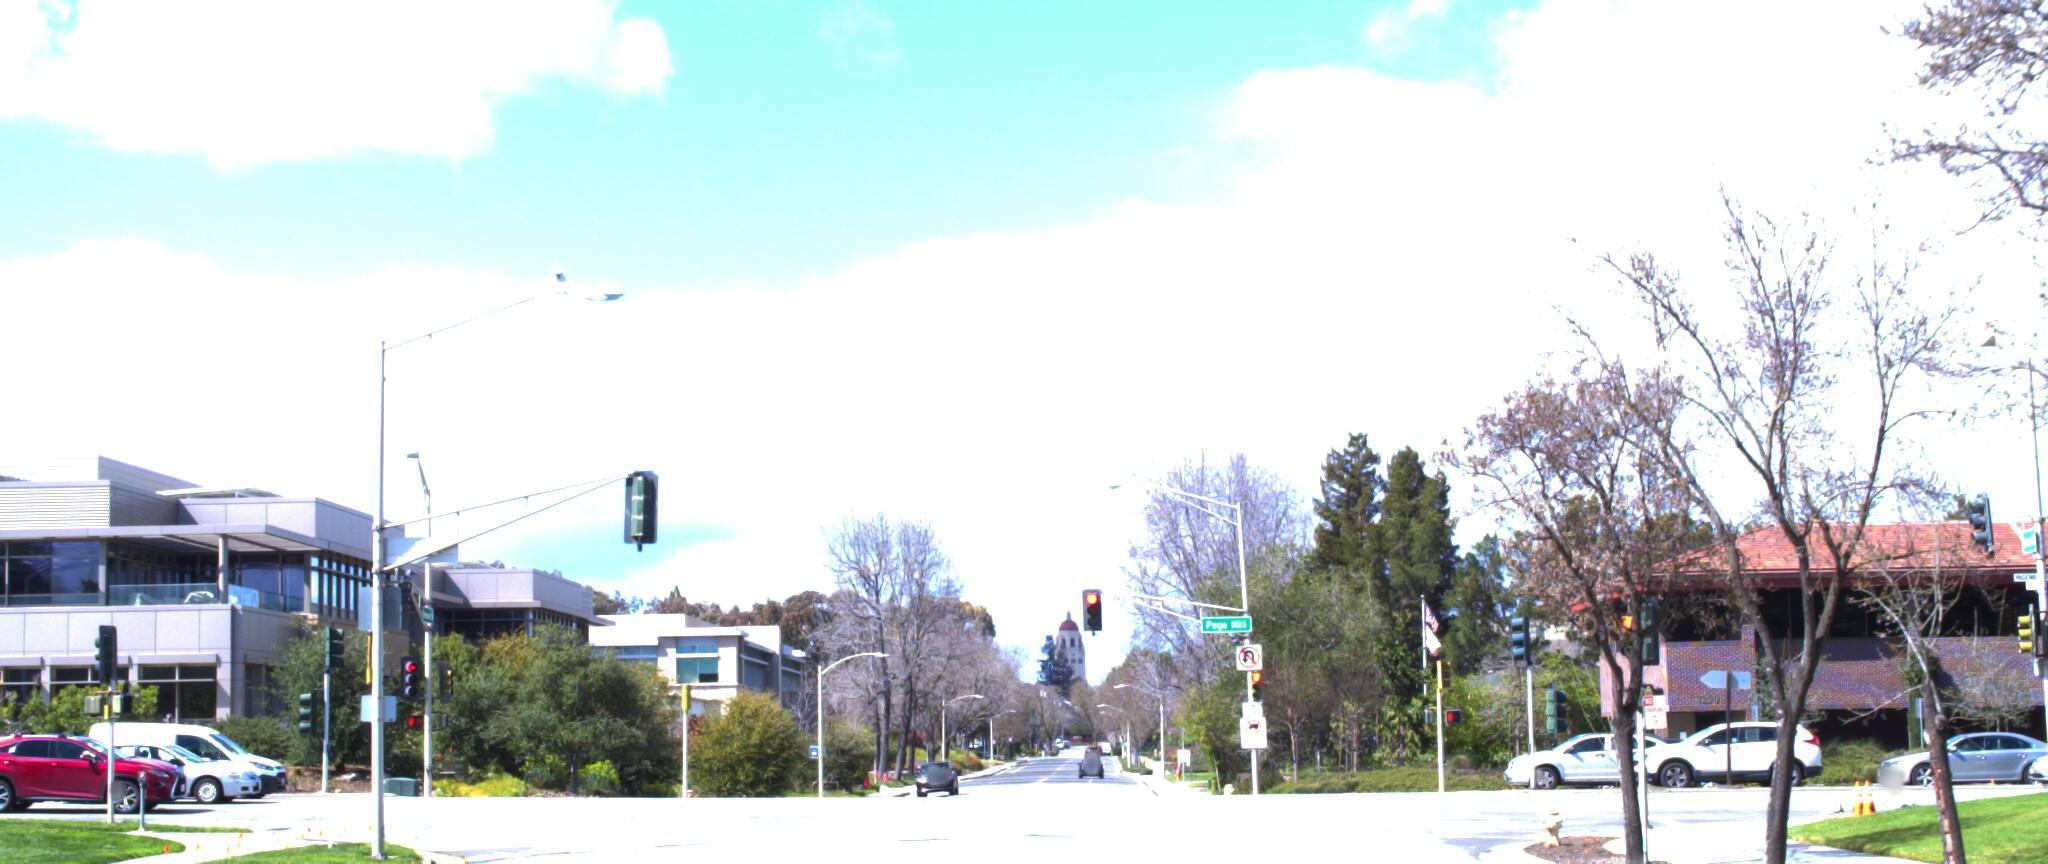car: (97, 717, 315, 800), (0, 726, 197, 816), (1616, 710, 1826, 790), (61, 733, 287, 803), (1494, 724, 1681, 794), (1859, 724, 2048, 791), (2000, 720, 2048, 794)
